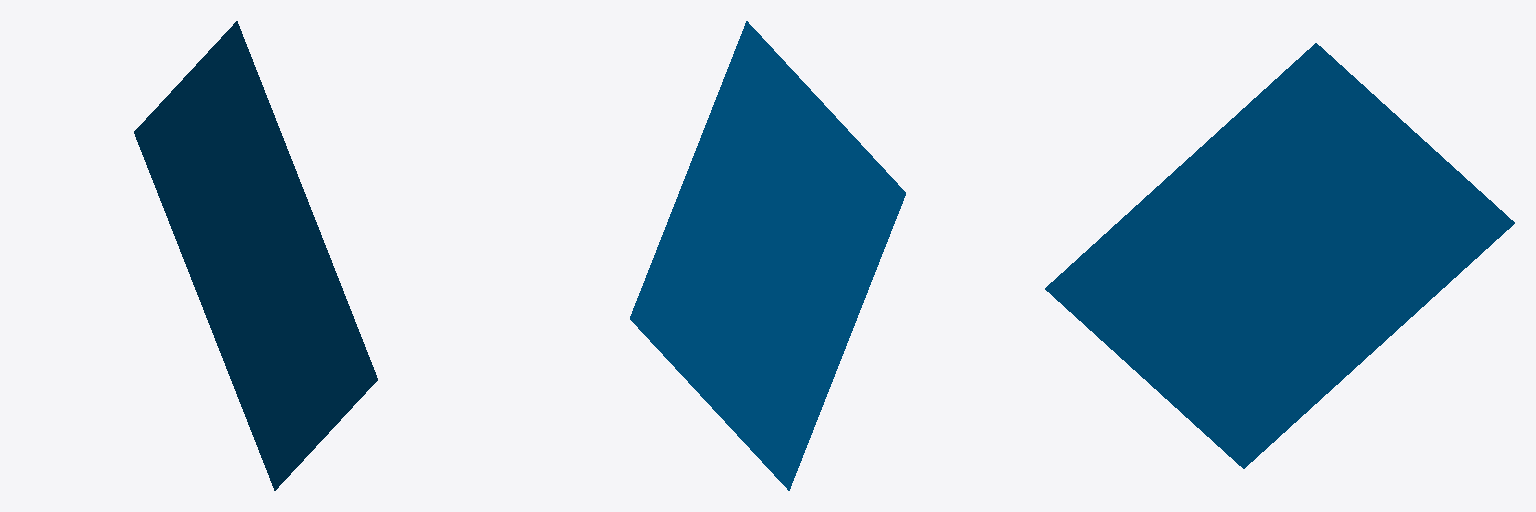
robot.urdf — panda:
<?xml version="1.0" ?>
<!-- =================================================================================== -->
<!-- |    This document was autogenerated by xacro from panda_arm_hand.urdf.xacro      | -->
<!-- |    EDITING THIS FILE BY HAND IS NOT RECOMMENDED                                 | -->
<!-- =================================================================================== -->
<robot name="panda" xmlns:xacro="http://www.ros.org/wiki/xacro">
  <link name="panda_link0">
    <visual>
      <geometry>
        <mesh filename="package:///meshes/visual/link0.dae"/>
      </geometry>
    </visual>
    <collision>
      <geometry>
        <mesh filename="package:///meshes/collision/link0.stl"/>
      </geometry>
    </collision>
    <inertial>
      <origin rpy="0 0 0" xyz="0 0 0"/>
      <mass value="2.8142028896"/>
      <inertia ixx="0.0129886979" ixy="0.0" ixz="0.0" iyy="0.0165355284" iyz="0" izz="0.0203311636"/>
    </inertial>
  </link>
  <link name="panda_link1">
    <visual>
      <geometry>
        <mesh filename="package:///meshes/visual/link1.dae"/>
      </geometry>
    </visual>
    <collision>
      <geometry>
        <mesh filename="package:///meshes/collision/link1.stl"/>
      </geometry>
    </collision>
    <inertial>
      <origin rpy="0 0 0" xyz="0 0 0"/>
      <mass value="2.3599995791"/>
      <inertia ixx="0.0186863903" ixy="0.0" ixz="0.0" iyy="0.0143789874" iyz="0" izz="0.00906812"/>
    </inertial>
  </link>
  <joint name="panda_joint1" type="revolute">
    <safety_controller k_position="100.0" k_velocity="40.0" soft_lower_limit="-2.8973" soft_upper_limit="2.8973"/>
    <origin rpy="0 0 0" xyz="0 0 0.333"/>
    <parent link="panda_link0"/>
    <child link="panda_link1"/>
    <axis xyz="0 0 1"/>
    <limit effort="87" lower="-2.8973" upper="2.8973" velocity="2.1750"/>
  </joint>
  <link name="panda_link2">
    <visual>
      <geometry>
        <mesh filename="package:///meshes/visual/link2.dae"/>
      </geometry>
    </visual>
    <collision>
      <geometry>
        <mesh filename="package:///meshes/collision/link2.stl"/>
      </geometry>
    </collision>
    <inertial>
      <origin rpy="0 0 0" xyz="0 0 0"/>
      <mass value="2.379518833"/>
      <inertia ixx="0.0190388734" ixy="0.0" ixz="0.0" iyy="0.0091429124" iyz="0" izz="0.014697537"/>
    </inertial>
  </link>
  <joint name="panda_joint2" type="revolute">
    <safety_controller k_position="100.0" k_velocity="40.0" soft_lower_limit="-1.7628" soft_upper_limit="1.7628"/>
    <origin rpy="-1.57079632679 0 0" xyz="0 0 0"/>
    <parent link="panda_link1"/>
    <child link="panda_link2"/>
    <axis xyz="0 0 1"/>
    <limit effort="87" lower="-1.7628" upper="1.7628" velocity="2.1750"/>
  </joint>
  <link name="panda_link3">
    <visual>
      <geometry>
        <mesh filename="package:///meshes/visual/link3.dae"/>
      </geometry>
    </visual>
    <collision>
      <geometry>
        <mesh filename="package:///meshes/collision/link3.stl"/>
      </geometry>
    </collision>
    <inertial>
      <origin rpy="0 0 0" xyz="0 0 0"/>
      <mass value="2.6498823337"/>
      <inertia ixx="0.0129300178" ixy="0.0" ixz="0.0" iyy="0.0150242121" iyz="0" izz="0.0142734598"/>
    </inertial>
  </link>
  <joint name="panda_joint3" type="revolute">
    <safety_controller k_position="100.0" k_velocity="40.0" soft_lower_limit="-2.8973" soft_upper_limit="2.8973"/>
    <origin rpy="1.57079632679 0 0" xyz="0 -0.316 0"/>
    <parent link="panda_link2"/>
    <child link="panda_link3"/>
    <axis xyz="0 0 1"/>
    <limit effort="87" lower="-2.8973" upper="2.8973" velocity="2.1750"/>
  </joint>
  <link name="panda_link4">
    <visual>
      <geometry>
        <mesh filename="package:///meshes/visual/link4.dae"/>
      </geometry>
    </visual>
    <collision>
      <geometry>
        <mesh filename="package:///meshes/collision/link4.stl"/>
      </geometry>
    </collision>
    <inertial>
      <origin rpy="0 0 0" xyz="0 0 0"/>
      <mass value="2.6948018744"/>
      <inertia ixx="0.0133874611" ixy="0.0" ixz="0.0" iyy="0.014514325" iyz="0" izz="0.0155175551"/>
    </inertial>
  </link>
  <joint name="panda_joint4" type="revolute">
    <safety_controller k_position="100.0" k_velocity="40.0" soft_lower_limit="-3.0718" soft_upper_limit="-0.0698"/>
    <origin rpy="1.57079632679 0 0" xyz="0.0825 0 0"/>
    <parent link="panda_link3"/>
    <child link="panda_link4"/>
    <axis xyz="0 0 1"/>
    <limit effort="87" lower="-3.0718" upper="-0.0698" velocity="2.1750"/>
  </joint>
  <link name="panda_link5">
    <visual>
      <geometry>
        <mesh filename="package:///meshes/visual/link5.dae"/>
      </geometry>
    </visual>
    <collision>
      <geometry>
        <mesh filename="package:///meshes/collision/link5.stl"/>
      </geometry>
    </collision>
    <inertial>
      <origin rpy="0 0 0" xyz="0 0 0"/>
      <mass value="2.9812816864"/>
      <inertia ixx="0.0325565705" ixy="0.0" ixz="0.0" iyy="0.0270660472" iyz="0" izz="0.0115023375"/>
    </inertial>
  </link>
  <joint name="panda_joint5" type="revolute">
    <safety_controller k_position="100.0" k_velocity="40.0" soft_lower_limit="-2.8973" soft_upper_limit="2.8973"/>
    <origin rpy="-1.57079632679 0 0" xyz="-0.0825 0.384 0"/>
    <parent link="panda_link4"/>
    <child link="panda_link5"/>
    <axis xyz="0 0 1"/>
    <limit effort="12" lower="-2.8973" upper="2.8973" velocity="2.6100"/>
  </joint>
  <link name="panda_link6">
    <visual>
      <geometry>
        <mesh filename="package:///meshes/visual/link6.dae"/>
      </geometry>
    </visual>
    <collision>
      <geometry>
        <mesh filename="package:///meshes/collision/link6.stl"/>
      </geometry>
    </collision>
    <inertial>
      <origin rpy="0 0 0" xyz="0 0 0"/>
      <mass value="1.1285806309"/>
      <inertia ixx="0.0026052565" ixy="0.0" ixz="0.0" iyy="0.0039897229" iyz="0" izz="0.0047048591"/>
    </inertial>
  </link>
  <joint name="panda_joint6" type="revolute">
    <safety_controller k_position="100.0" k_velocity="40.0" soft_lower_limit="-0.0175" soft_upper_limit="3.7525"/>
    <origin rpy="1.57079632679 0 0" xyz="0 0 0"/>
    <parent link="panda_link5"/>
    <child link="panda_link6"/>
    <axis xyz="0 0 1"/>
    <limit effort="12" lower="-0.0175" upper="3.7525" velocity="2.6100"/>
  </joint>
  <link name="panda_link7">
    <visual>
      <geometry>
        <mesh filename="package:///meshes/visual/link7.dae"/>
      </geometry>
    </visual>
    <collision>
      <geometry>
        <mesh filename="package:///meshes/collision/link7.stl"/>
      </geometry>
    </collision>
    <inertial>
      <origin rpy="0 0 0" xyz="0 0 0"/>
      <mass value="0.4052912465"/>
      <inertia ixx="0.0006316592" ixy="0.0" ixz="0.0" iyy="0.0006319639" iyz="0" izz="0.0010607721"/>
    </inertial>
  </link>
  <joint name="panda_joint7" type="revolute">
    <safety_controller k_position="100.0" k_velocity="40.0" soft_lower_limit="-2.8973" soft_upper_limit="2.8973"/>
    <origin rpy="1.57079632679 0 0" xyz="0.088 0 0"/>
    <parent link="panda_link6"/>
    <child link="panda_link7"/>
    <axis xyz="0 0 1"/>
    <limit effort="12" lower="-2.8973" upper="2.8973" velocity="2.6100"/>
  </joint>
  <link name="panda_link8"/>
  <joint name="panda_joint8" type="fixed">
    <origin rpy="0 0 0" xyz="0 0 0.107"/>
    <parent link="panda_link7"/>
    <child link="panda_link8"/>
    <axis xyz="0 0 0"/>
  </joint>
  <joint name="panda_hand_joint" type="fixed">
    <parent link="panda_link8"/>
    <child link="panda_hand"/>
    <origin rpy="0 0 -0.785398163397" xyz="0 0 0"/>
  </joint>
  <link name="panda_hand">
    <visual>
      <geometry>
        <mesh filename="package:///meshes/visual/hand.dae"/>
      </geometry>
    </visual>
    <collision>
      <geometry>
        <mesh filename="package:///meshes/collision/hand.stl"/>
      </geometry>
    </collision>
    <inertial>
      <origin rpy="0 0 0" xyz="0 0 0"/>
      <mass value="0.5583304799"/>
      <inertia ixx="0.0023394448" ixy="0.0" ixz="0.0" iyy="0.0005782786" iyz="0" izz="0.0021310296"/>
    </inertial>
  </link>
  <link name="panda_leftfinger">
    <!-- <visual>
      <geometry>
        <mesh filename="package:///meshes/visual/finger.dae"/>
      </geometry>
    </visual>
    <collision>
      <geometry>
        <mesh filename="package:///meshes/collision/finger.stl"/>
      </geometry>
    </collision> -->
    <inertial>
      <origin rpy="0 0 0" xyz="0 0 0"/>
      <mass value="0.0140552232"/>
      <inertia ixx="4.20413082650939E-06" ixy="0.0" ixz="0.0" iyy="3.90263687466755E-06" iyz="0" izz="1.33474964199095E-06"/>
    </inertial>
  </link>
  <link name="panda_rightfinger">
    <!-- <visual>
      <origin rpy="0 0 3.14159265359" xyz="0 0 0"/>
      <geometry>
        <mesh filename="package:///meshes/visual/finger.dae"/>
      </geometry>
    </visual>
    <collision>
      <origin rpy="0 0 3.14159265359" xyz="0 0 0"/>
      <geometry>
        <mesh filename="package:///meshes/collision/finger.stl"/>
      </geometry>
    </collision> -->
    <inertial>
      <origin rpy="0 0 0" xyz="0 0 0"/>
      <mass value="0.0140552232"/>
      <inertia ixx="4.20413082650939E-06" ixy="0.0" ixz="0.0" iyy="3.90263687466755E-06" iyz="0" izz="1.33474964199095E-06"/>
    </inertial>
  </link>
  <joint name="panda_finger_joint1" type="prismatic">
    <parent link="panda_hand"/>
    <child link="panda_leftfinger"/>
    <origin rpy="0 0 0" xyz="0 0 0.0584"/>
    <axis xyz="0 1 0"/>
    <limit effort="20" lower="0.0" upper="0.04" velocity="0.2"/>
  </joint>
  <joint name="panda_finger_joint2" type="prismatic">
    <parent link="panda_hand"/>
    <child link="panda_rightfinger"/>
    <origin rpy="0 0 0" xyz="0 0 0.0584"/>
    <axis xyz="0 -1 0"/>
    <limit effort="20" lower="0.0" upper="0.04" velocity="0.2"/>
    <mimic joint="panda_finger_joint1"/>
  </joint>


      <!-- <origin rpy="0 0 3.14159265359" xyz="0 0 0"/> -->

  <link name="board">
    <visual>
      <geometry>
        <mesh filename="package://board/ArUco_DICT_7X7_50_5_7_500_100_0.obj"/>
        <!-- <mesh filename="package:///meshes/collision/finger.stl"/> -->
      </geometry>
    </visual>
  </link>

  <joint name="panda_j" type="fixed">
    <!-- <origin rpy="0 1.57 0" xyz="0.1 0 0.0"/> -->
    <origin rpy="0 0 0" xyz="0.0 0 0.18"/>
    <!-- <origin rpy="0 1.57 0" xyz="0 0 0.0"/> -->
    <parent link="panda_hand"/>
    <child link="board"/>
    <axis xyz="0 0 0"/>
  </joint>
  
  
</robot>

--- What the picture shows (computed from the rendered views, not written in the file) ---
3 views of the same robot in one strip: view 1: azimuth 30°, elevation 25°; view 2: azimuth 150°, elevation 25°; view 3: azimuth 270°, elevation 25° (orthographic).
Model panda with 13 links and 12 joints (7 revolute, 2 prismatic, 3 fixed), rooted at panda_link0, posed all joints at 0 but 1 set to mid-range because 0 is outside their limits (panda_joint4 = -1.57).
Visible links, largest first — view 1: board; view 2: board; view 3: board.
Boxes of the visible links, x1,y1,x2,y2 form: board: (134, 21, 377, 490); board: (630, 21, 905, 490); board: (1045, 43, 1514, 468).
Bounding box of the posed robot: 0 × 0.5515 × 0.5515 m (x, y, z).
1 mesh visuals loaded from 10 distinct referenced files (1 OBJ); not drawn: 9 (reference not matched to a file when rendering).